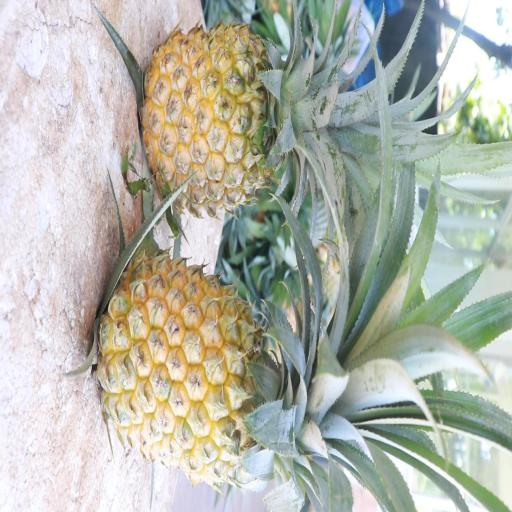Pineapple - v8 v1: (93, 251, 354, 492), (138, 20, 348, 223)
